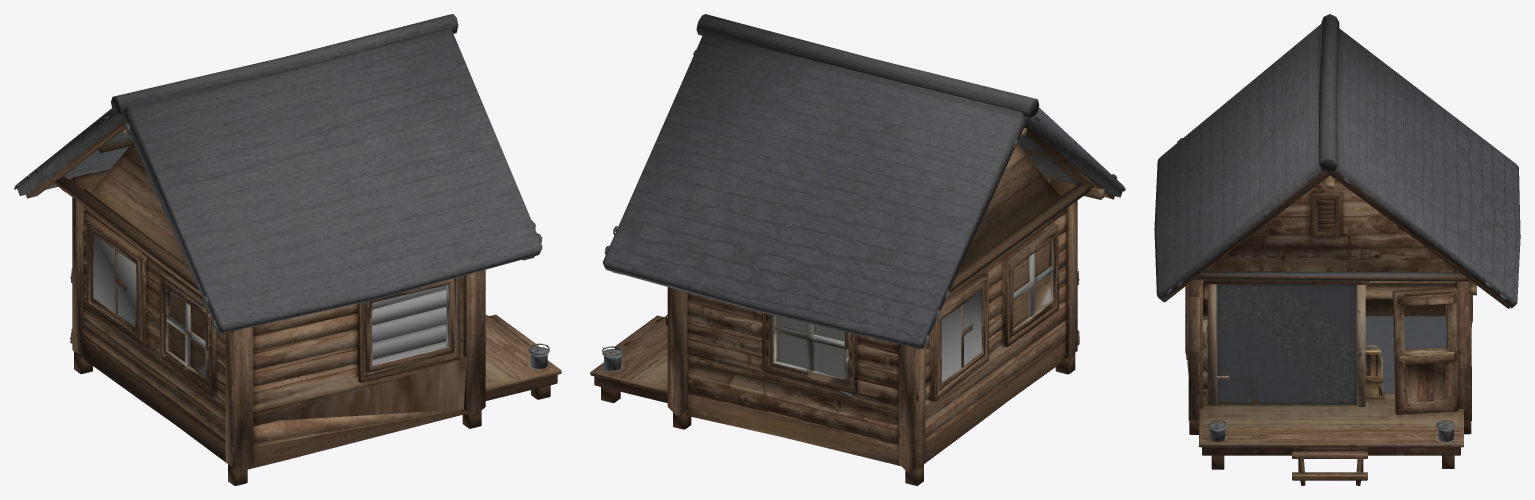
3 views of the same model, side by side, from view 1: azimuth 30°, elevation 25°; view 2: azimuth 150°, elevation 25°; view 3: azimuth 270°, elevation 25° (orthographic). The views are drawn at different scales.
Visible parts, largest first — view 1: tripo_node_37aab2f1; view 2: tripo_node_37aab2f1; view 3: tripo_node_37aab2f1.
Boxes of the visible parts, x1,y1,x2,y2 form: tripo_node_37aab2f1: (14,14,561,485); tripo_node_37aab2f1: (590,14,1125,485); tripo_node_37aab2f1: (1154,14,1520,485).
Bounding box in the file's own units: 1157 × 948 × 1044.
Materials: 1 (1 with a texture image).
